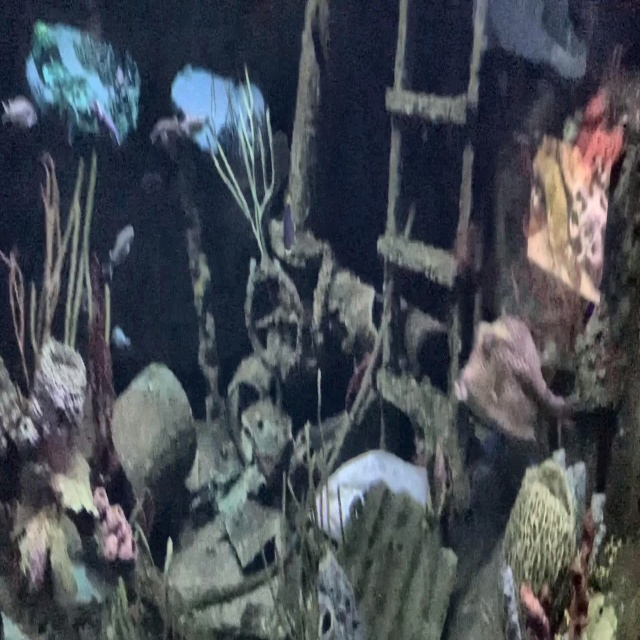fish: (453, 306, 568, 450), (306, 451, 429, 550), (149, 112, 195, 154), (106, 225, 136, 281), (1, 93, 39, 131), (109, 326, 131, 350)
